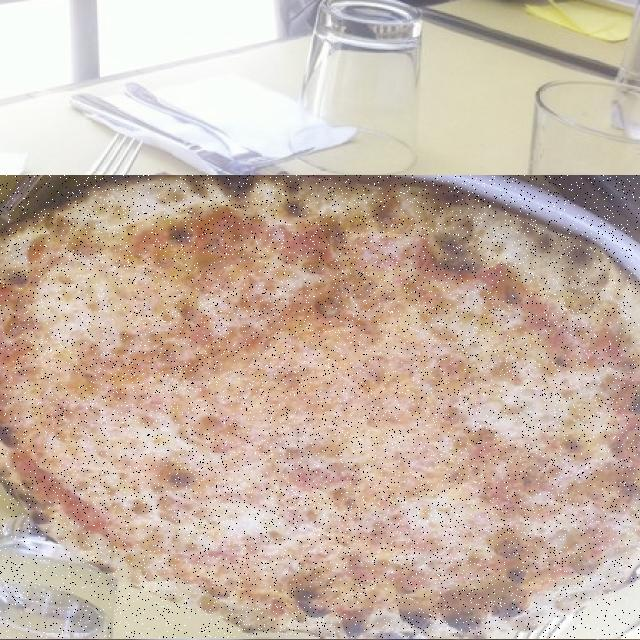Pizza: (0, 176, 640, 638)
